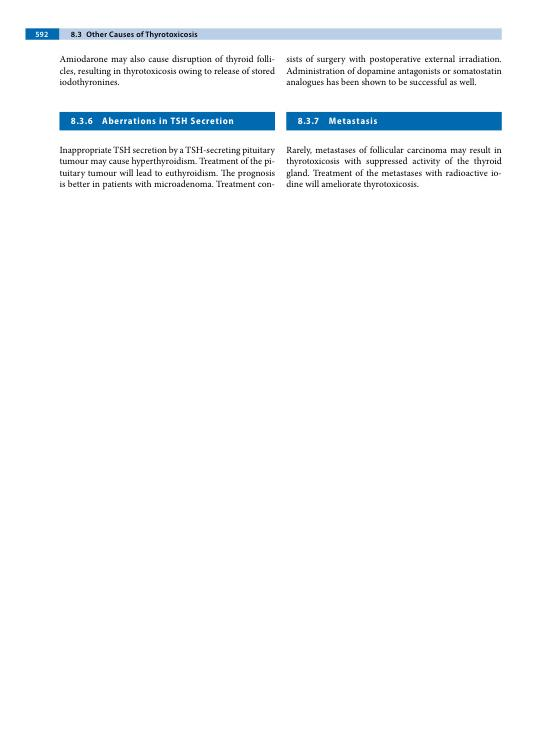header: (85, 29, 198, 39)
section-heading: (101, 116, 234, 125), (328, 116, 378, 126)
text: (58, 144, 277, 190), (285, 145, 502, 190), (285, 53, 503, 90), (58, 53, 276, 89)
